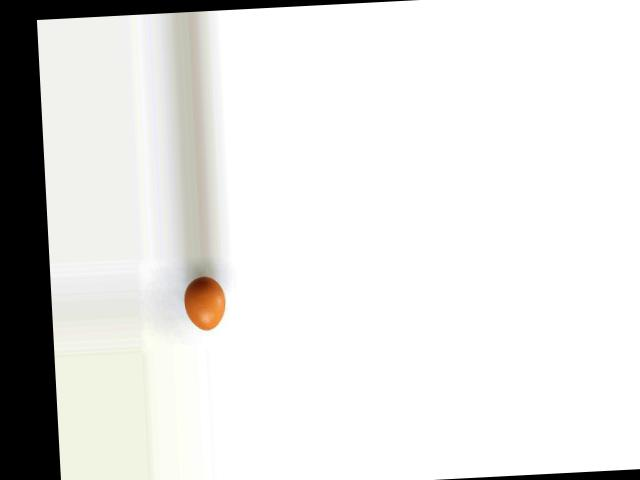egg: (182, 274, 225, 331)
